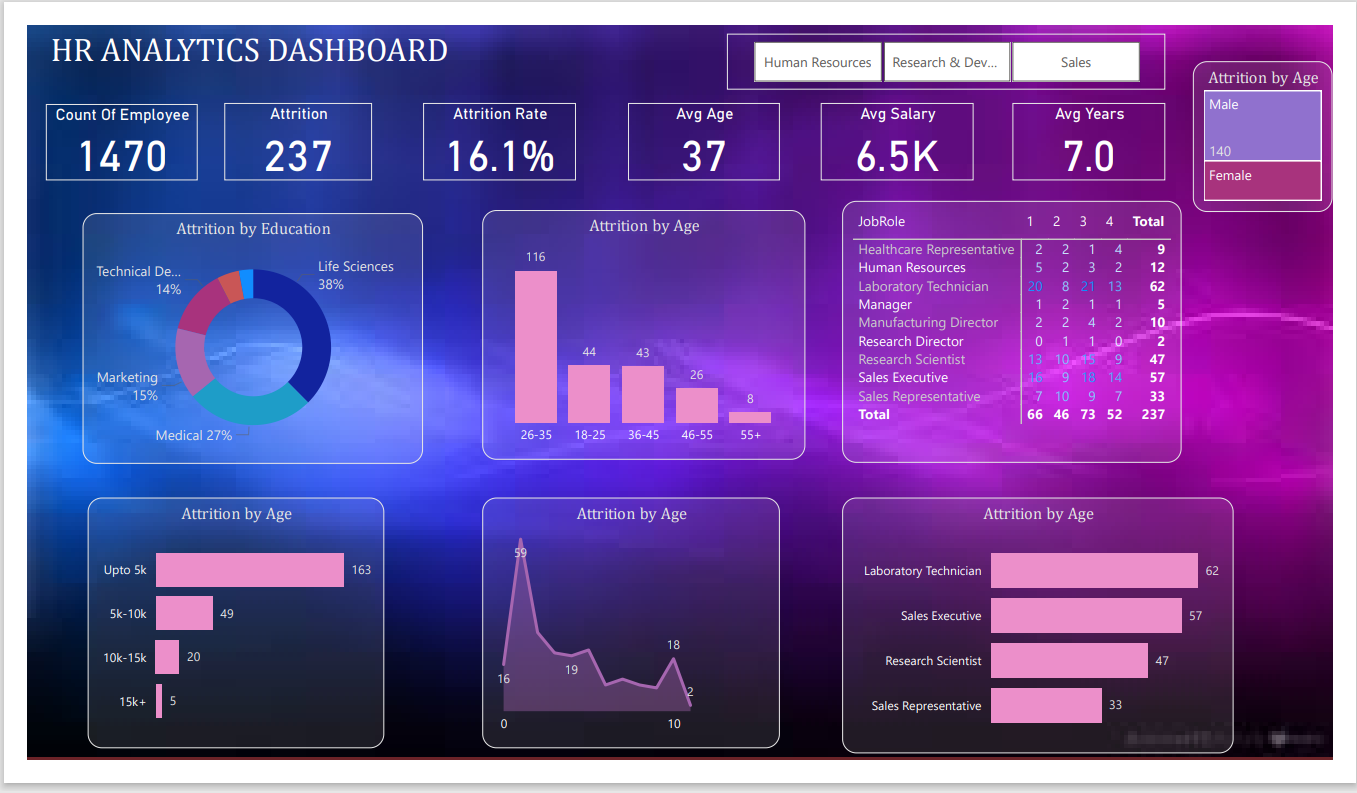

What the dashboard file says about the page in this screenshot:
{"tool":"powerbi","page":{"name":"Page 1","canvas":[1280,720],"ordinal":0},"visuals":[{"type":"card","title":"Count Of Employee","fields":{"Values":["HR_Analytics (3).EmpID"]},"box":[17.8,76.8,149.6,75.5],"z":0},{"type":"card","title":"Attrition","fields":{"Values":["HR_Analytics (3).AttritionCount"]},"box":[193.5,76.3,144.1,75.5],"z":1000},{"type":"card","title":"Avg Age","fields":{"Values":["HR_Analytics (3).Age"]},"box":[588.7,76.3,149.6,75.5],"z":2000},{"type":"card","title":"Attrition Rate","fields":{"Values":["HR_Analytics (3).AttritionRate"]},"box":[388.3,76.3,149.6,75.5],"z":3000},{"type":"card","title":"Avg Years","fields":{"Values":["HR_Analytics (3).YearsAtCompany"]},"box":[966,76.3,149.6,75.5],"z":4000},{"type":"card","title":"Avg Salary","fields":{"Values":["HR_Analytics (3).MonthlyIncome"]},"box":[778,76.3,149.6,75.5],"z":5000},{"type":"donutChart","title":"Attrition by Education","fields":{"Category":["HR_Analytics (3).EducationField"],"Y":["HR_Analytics (3).AttritionCount"]},"box":[53.5,183.9,334.8,245.6],"z":5001},{"type":"columnChart","title":"Attrition by Age","fields":{"Category":["HR_Analytics (3).AgeGroup"],"Y":["HR_Analytics (3).AttritionCount"]},"box":[446,180.6,317,245.6],"z":5002},{"type":"pivotTable","fields":{"Rows":["HR_Analytics (3).JobRole"],"Columns":["HR_Analytics (3).JobSatisfaction"],"Values":["HR_Analytics (3).AttritionCount"]},"box":[798.6,172.4,333.4,256.6],"z":5003},{"type":"barChart","title":"Attrition by Age","fields":{"Category":["HR_Analytics (3).SalarySlab"],"Y":["HR_Analytics (3).AttritionCount"]},"box":[59,463.3,290.9,245.6],"z":5004},{"type":"barChart","title":"Attrition by Age","fields":{"Category":["HR_Analytics (3).JobRole"],"Y":["HR_Analytics (3).AttritionCount"]},"box":[798.6,463.3,384.2,251.1],"z":5005},{"type":"areaChart","title":"Attrition by Age","fields":{"Category":["HR_Analytics (3).YearsAtCompany"],"Y":["HR_Analytics (3).AttritionCount"]},"box":[446,463.3,292.3,245.6],"z":5006},{"type":"treemap","title":"Attrition by Age","fields":{"Group":["HR_Analytics (3).Gender"],"Values":["HR_Analytics (3).AttritionCount"]},"box":[1143.1,35.1,137.2,148.2],"z":5007},{"type":"slicer","fields":{"Values":["HR_Analytics (3).Department"]},"box":[686.1,8.2,429.5,54.9],"z":5008},{"type":"textbox","box":[17.8,0,507.7,63.1],"z":5009}]}

Visuals, with their boxes on the page's 1280x720 design canvas (x1, y1, x2, y2). These are canvas units, not pixel positions in the 1357x793 screenshot, which may show the page scaled, cropped or inside an application window:
"Count Of Employee" card: bbox=[18, 77, 167, 152]
"Attrition" card: bbox=[194, 76, 338, 152]
"Avg Age" card: bbox=[589, 76, 738, 152]
"Attrition Rate" card: bbox=[388, 76, 538, 152]
"Avg Years" card: bbox=[966, 76, 1116, 152]
"Avg Salary" card: bbox=[778, 76, 928, 152]
"Attrition by Education" donutChart: bbox=[54, 184, 388, 430]
"Attrition by Age" columnChart: bbox=[446, 181, 763, 426]
pivotTable - HR_Analytics (3).JobRole x HR_Analytics (3).JobSatisfaction: bbox=[799, 172, 1132, 429]
"Attrition by Age" barChart: bbox=[59, 463, 350, 709]
"Attrition by Age" barChart: bbox=[799, 463, 1183, 714]
"Attrition by Age" areaChart: bbox=[446, 463, 738, 709]
"Attrition by Age" treemap: bbox=[1143, 35, 1280, 183]
slicer - HR_Analytics (3).Department: bbox=[686, 8, 1116, 63]
textbox: bbox=[18, 0, 526, 63]
